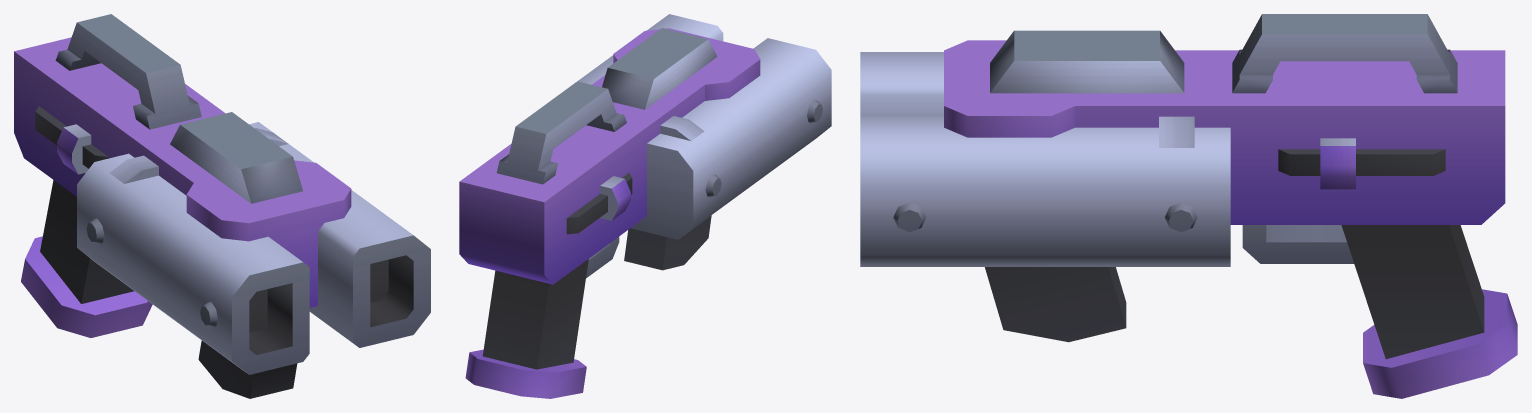
3 renders of one model, left to right at view 1: azimuth 30°, elevation 25°; view 2: azimuth 150°, elevation 25°; view 3: azimuth 270°, elevation 25°, orthographic. The views are drawn at different scales.
Parts seen in each view (by area): view 1: blaster-l; view 2: blaster-l; view 3: blaster-l.
Boxes of the visible parts, x1=… form: blaster-l: x1=14, y1=14, x2=430, y2=398; blaster-l: x1=459, y1=14, x2=831, y2=398; blaster-l: x1=860, y1=14, x2=1517, y2=398.
Bounding box in the file's own units: 0.2481 × 0.3336 × 0.56.
1 material, 1 textured.
